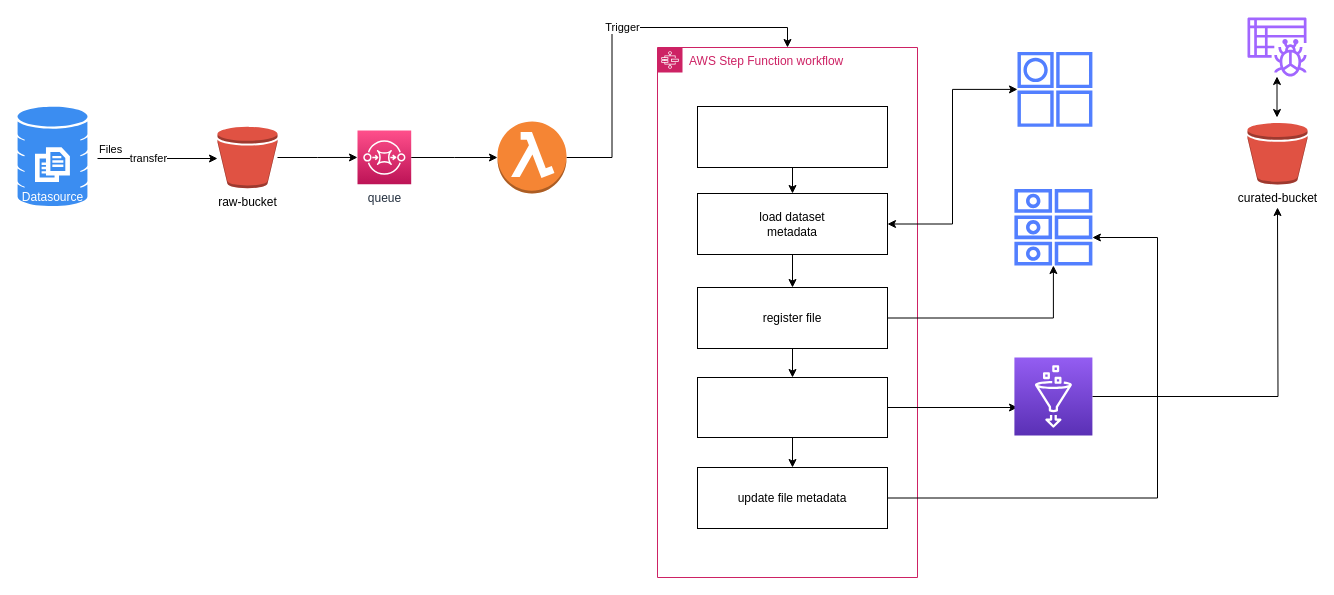
The diagram is 1334 pixels wide and 595 high, and some of its shapes have lost their labels. Here are the shapes that lost their labels. From the top down, the box of each, then its label:
(1017, 51, 1092, 126): dataset metadata
(696, 106, 888, 168): resolve dataset/metadata file
(1014, 188, 1092, 266): file audit data
(696, 376, 888, 438): process/transform file
